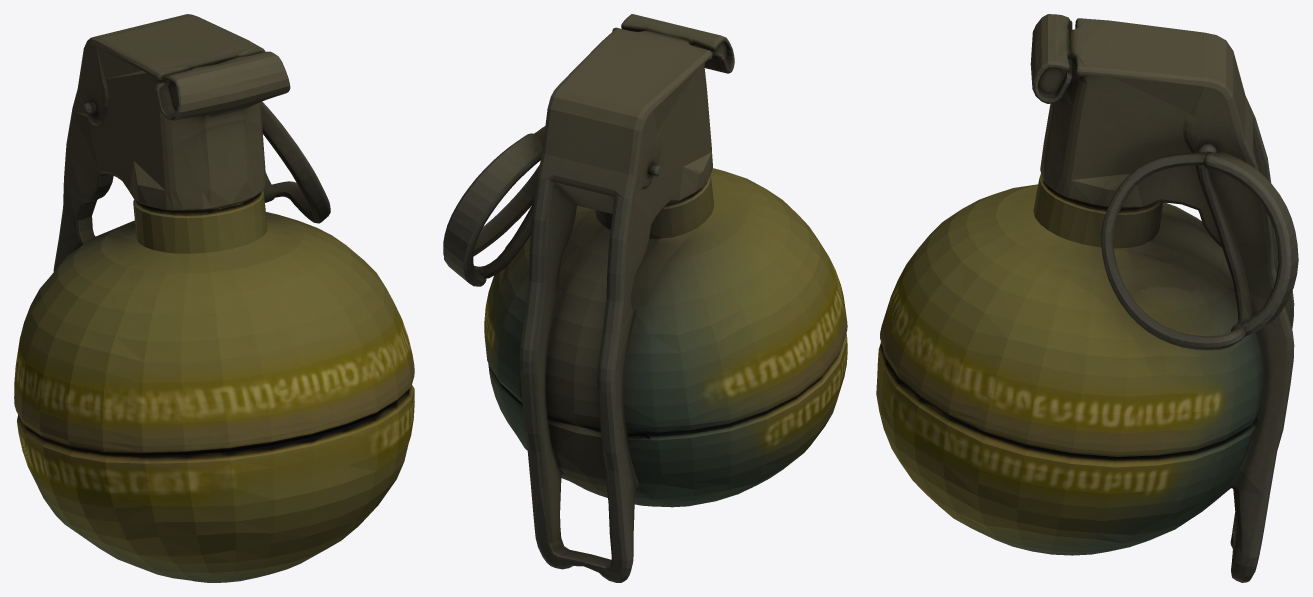
The model's file is mud.obj.
The picture shows the model from 3 angles, left to right: view 1: azimuth 30°, elevation 25°; view 2: azimuth 150°, elevation 25°; view 3: azimuth 270°, elevation 25°; orthographic projection. The views are drawn at different scales.
Parts seen in each view (by area): view 1: model; view 2: model; view 3: model.
Part boxes in pixels (bbox=[...]): model: bbox=[14, 14, 414, 582]; model: bbox=[443, 14, 847, 582]; model: bbox=[876, 14, 1298, 582].
Bounding box in the file's own units: 0.6792 × 0.998 × 0.7239.
